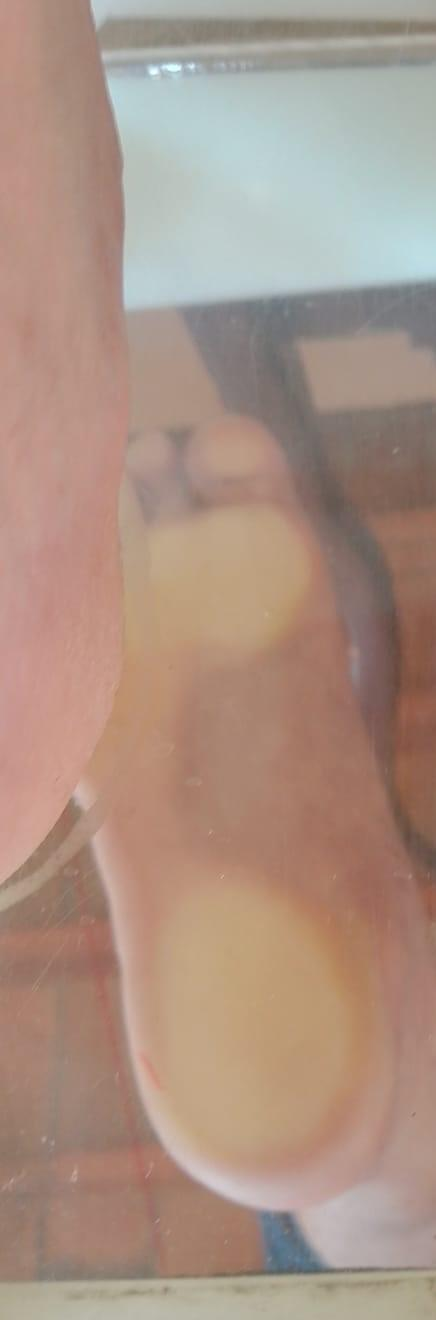Present: (43, 407, 427, 1200)
